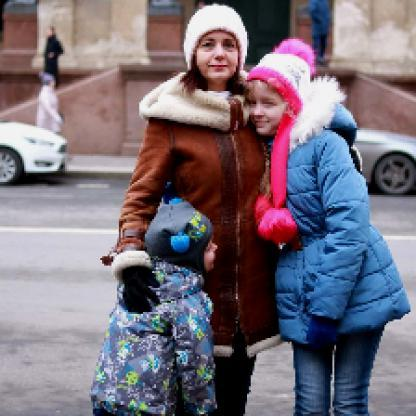child: (88, 200, 220, 416)
